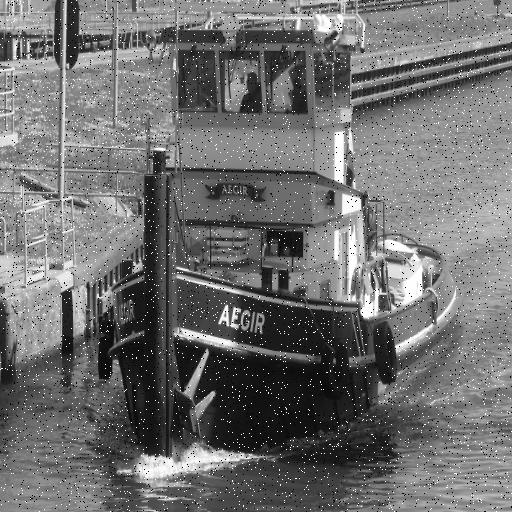tugboat: (96, 1, 470, 482)
